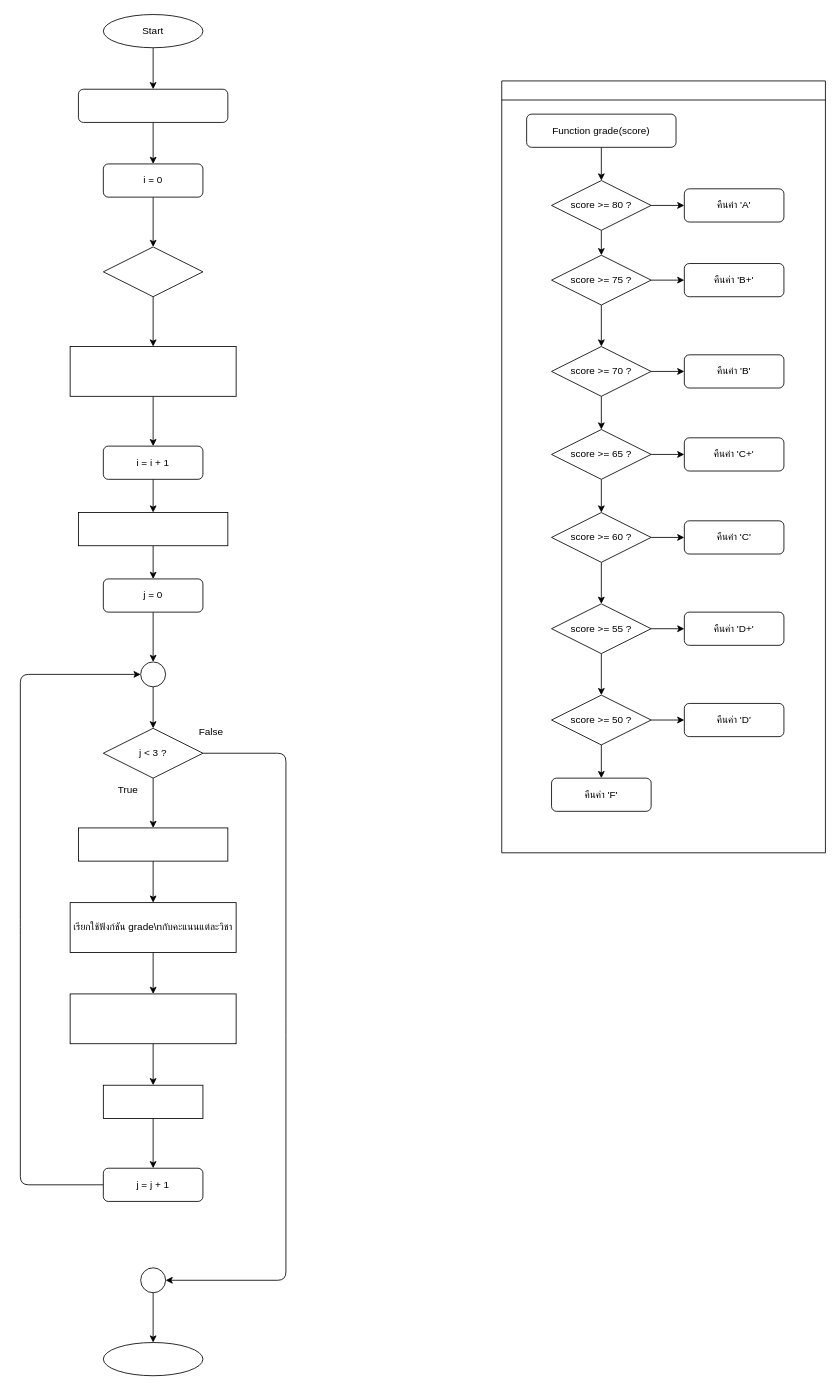
Image size: 840x1390. Some labels were removed from this diagram. The centre of each missing label's shape, as x and y in pixels:
Function: the point at 663,466
i < 3 ?: the point at 153,271
Stop: the point at 153,1359
รับข้อมูลนักเรียน\n(Name, ID, ScoreSub1-5): the point at 152,371
สร้างอาร์เรย์ students[3]: the point at 153,105
แสดงข้อความ\n--- Grade Report ---: the point at 153,529
แสดงข้อมูลนักเรียน\n(Name, ID): the point at 153,844
แสดงผลคะแนนและเกรด\n(Subject 1-5): the point at 152,1018
แสดงเส้นคั่น: the point at 153,1101
